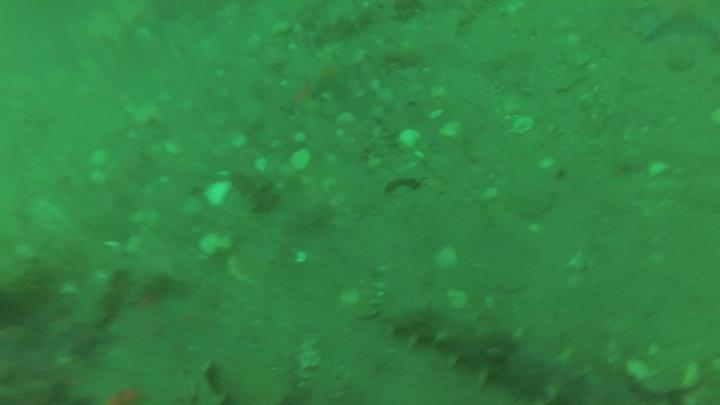holothurian: (388, 312, 634, 405)
